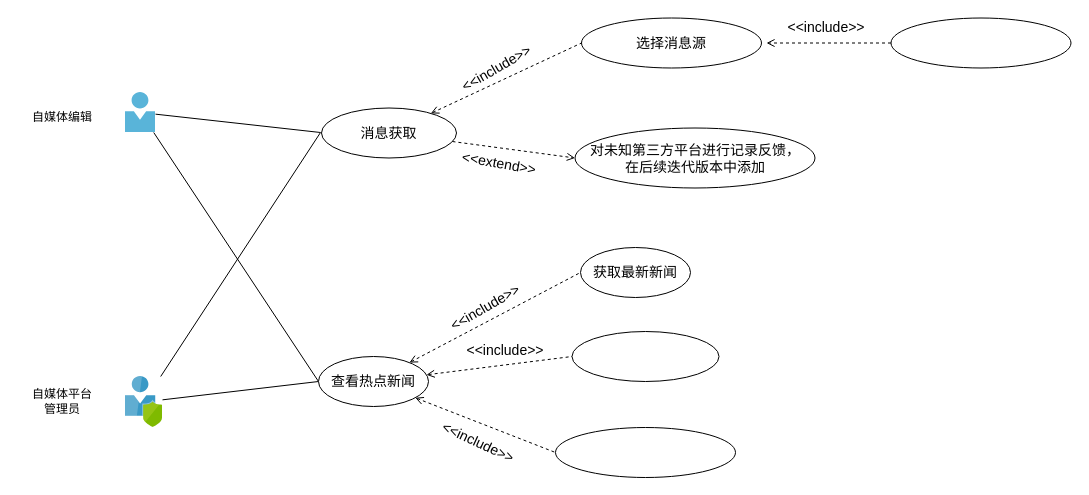
This 1089x495 diagram has some shape labels left out. Each missing label, with the box of its shape:
对已知协议格式的链接 进行解析（RSS）: (890, 17, 1071, 68)
按新闻分类进行阅览: (554, 426, 736, 478)
新闻筛选: (571, 330, 719, 382)
